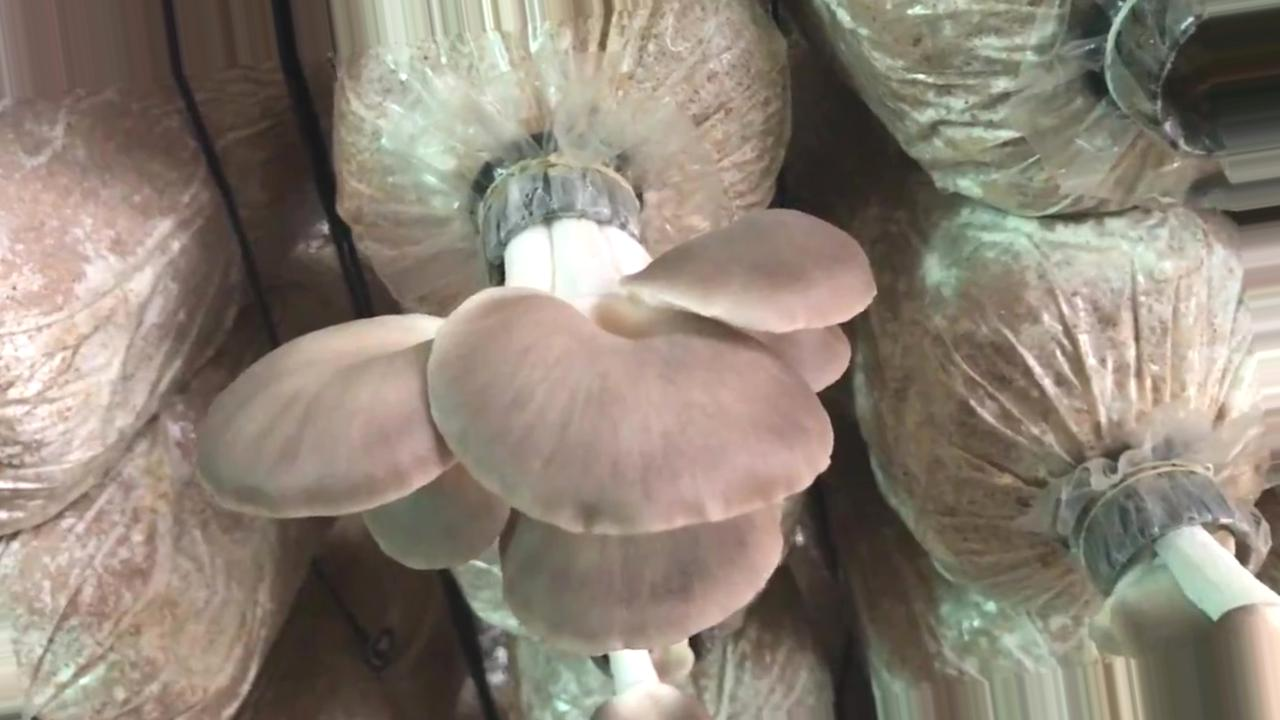nam: (199, 163, 874, 653), (1089, 472, 1280, 720), (595, 638, 713, 720)
